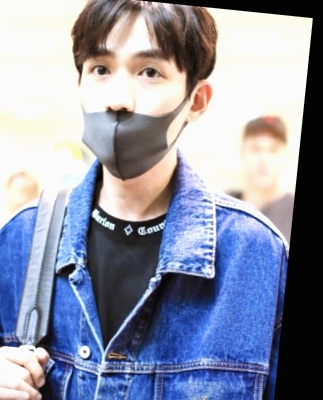mask_weared_incorrect: (71, 1, 190, 181)
